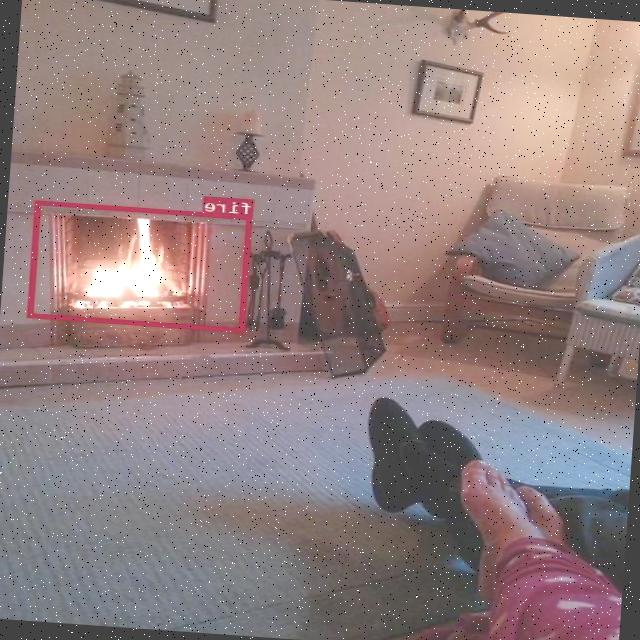fire: (28, 199, 254, 332)
